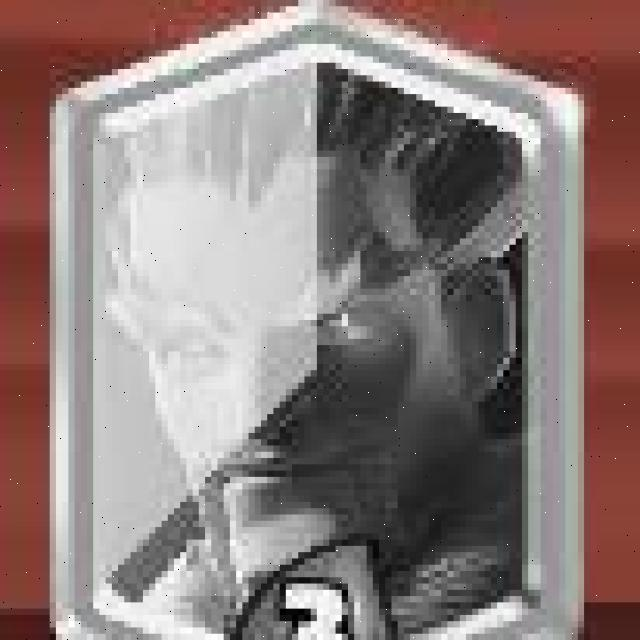Ice_Wizard: (65, 3, 576, 640)
